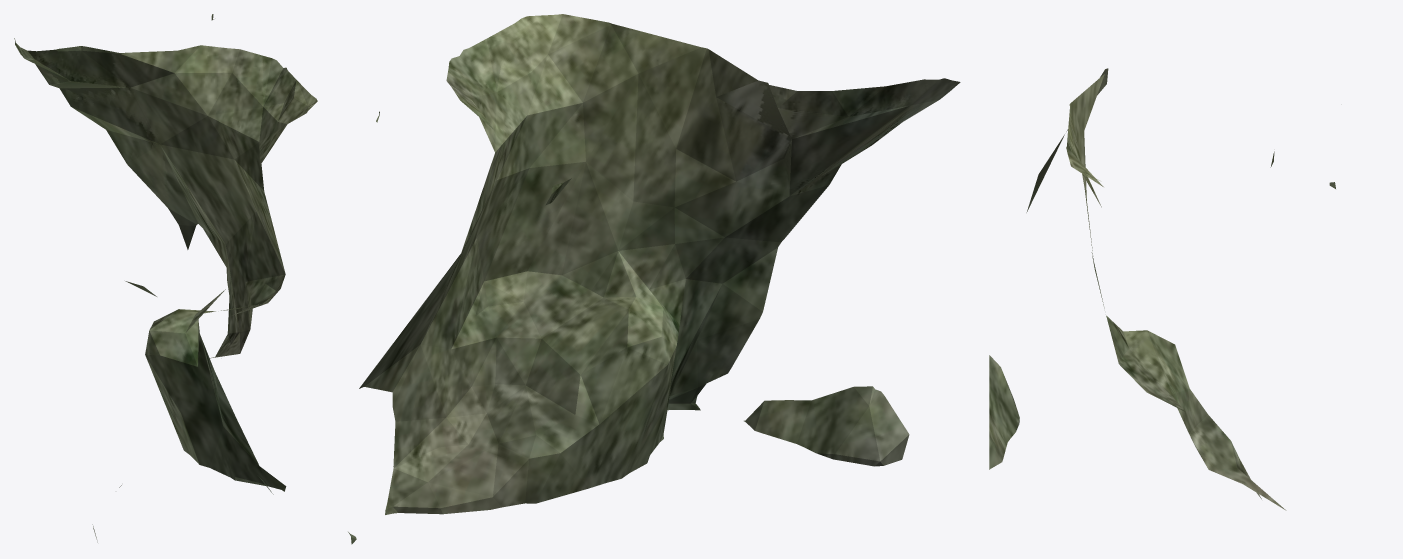
3 renders of one model, left to right at view 1: azimuth 30°, elevation 25°; view 2: azimuth 150°, elevation 25°; view 3: azimuth 270°, elevation 25°, orthographic. The views are drawn at different scales.
Size of the model in its own units: 2.95 by 2.95 by 2.95.
Materials: 4 (4 with a texture image).
